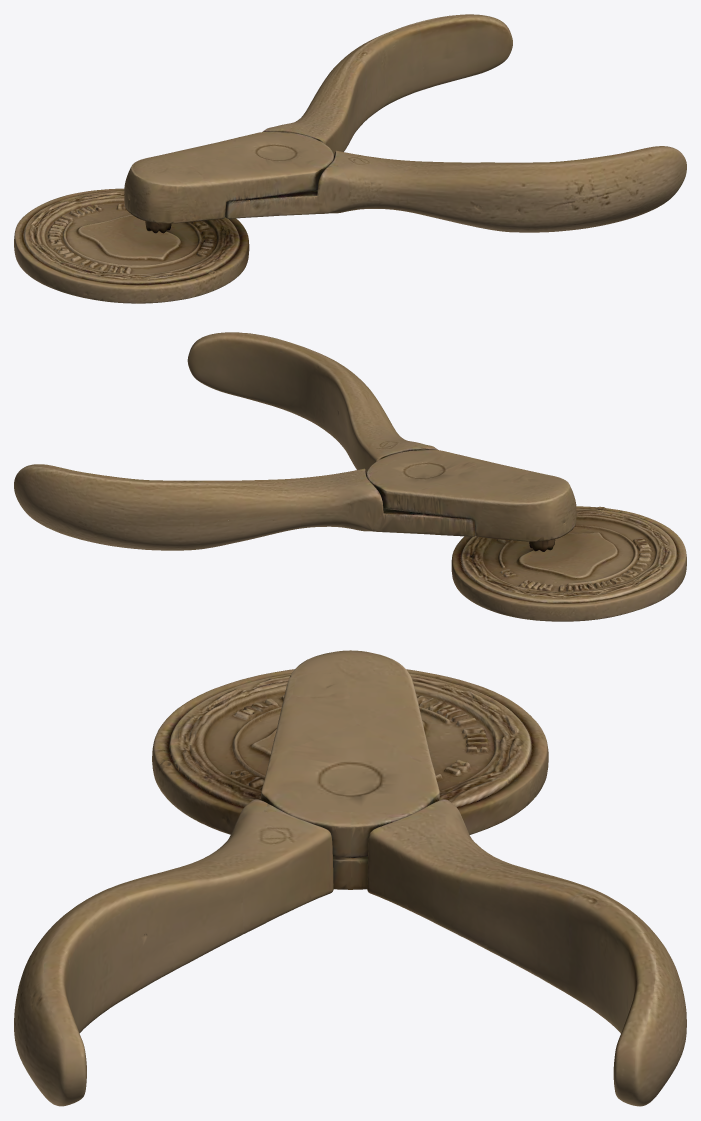
Rendered from seal-stamp.glb.
3 renders of one model, top to bottom at view 1: azimuth 30°, elevation 25°; view 2: azimuth 150°, elevation 25°; view 3: azimuth 270°, elevation 25°, orthographic. The views are drawn at different scales.
Visible parts, largest first — view 1: tripo_node_798376c7-3081-44f8-a6bc-ef9a9cdbe063; view 2: tripo_node_798376c7-3081-44f8-a6bc-ef9a9cdbe063; view 3: tripo_node_798376c7-3081-44f8-a6bc-ef9a9cdbe063.
Part boxes in pixels (left/top/right/bottom): tripo_node_798376c7-3081-44f8-a6bc-ef9a9cdbe063: left=14, top=14, right=686, bottom=303; tripo_node_798376c7-3081-44f8-a6bc-ef9a9cdbe063: left=14, top=332, right=686, bottom=621; tripo_node_798376c7-3081-44f8-a6bc-ef9a9cdbe063: left=14, top=650, right=686, bottom=1106.
Bounding box in the file's own units: 0.9795 × 0.1353 × 0.6199.
Materials: 1 (1 with a texture image).
